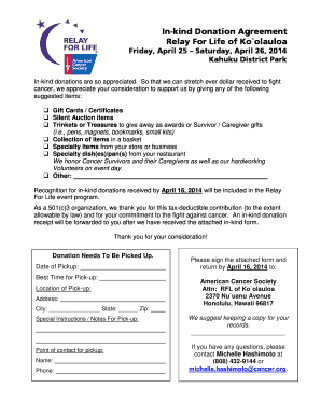checkbox: (41, 170, 52, 179), (41, 142, 52, 149), (42, 112, 51, 120), (41, 134, 50, 142), (41, 150, 51, 157), (42, 121, 50, 128), (42, 106, 50, 112)
textline: (34, 323, 168, 335), (72, 172, 269, 180), (33, 335, 169, 345), (59, 293, 168, 305), (54, 366, 169, 376), (53, 356, 168, 365), (79, 263, 168, 273), (47, 305, 101, 315), (98, 275, 168, 282), (116, 305, 139, 316), (150, 304, 167, 315)
